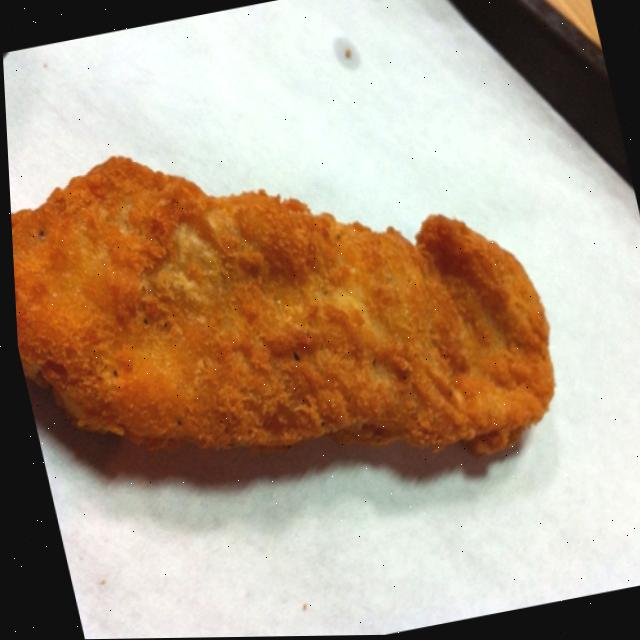鸡肉料理 含炸鸡: (4, 102, 566, 524)
